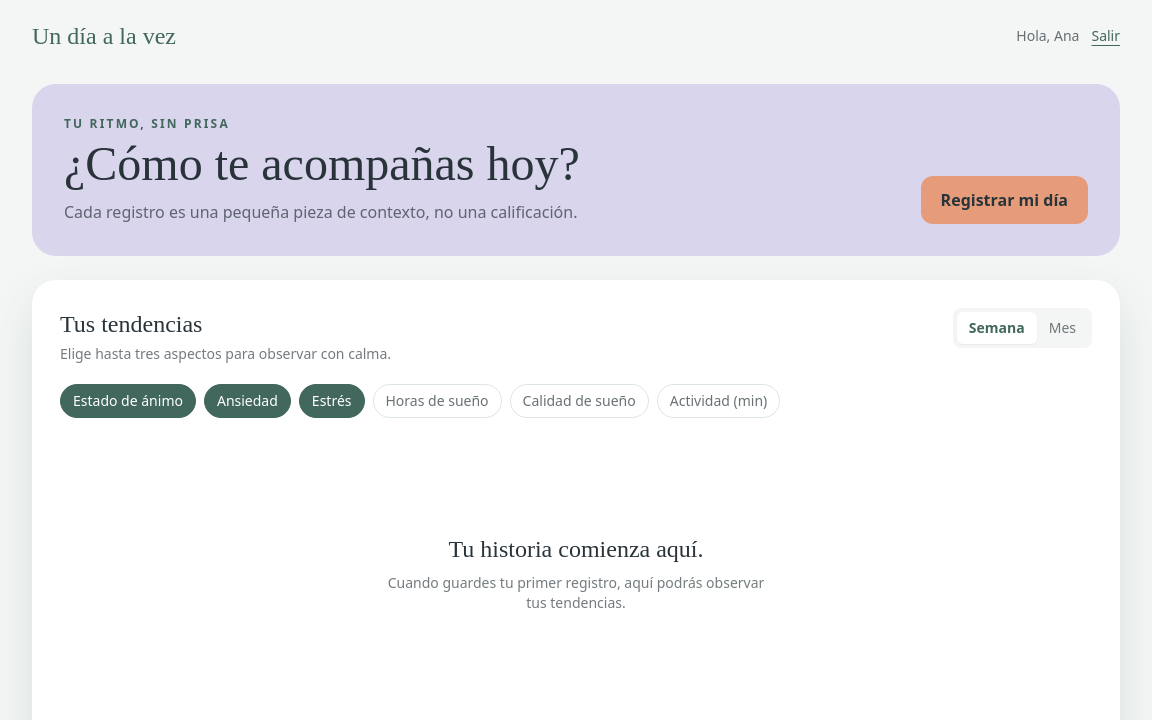
Test: DashboardPage › opens the daily log modal when "Registrar mi día" is clicked
Click the button "Registrar mi día". click: (1004,200)
box: [921, 176, 1088, 224]
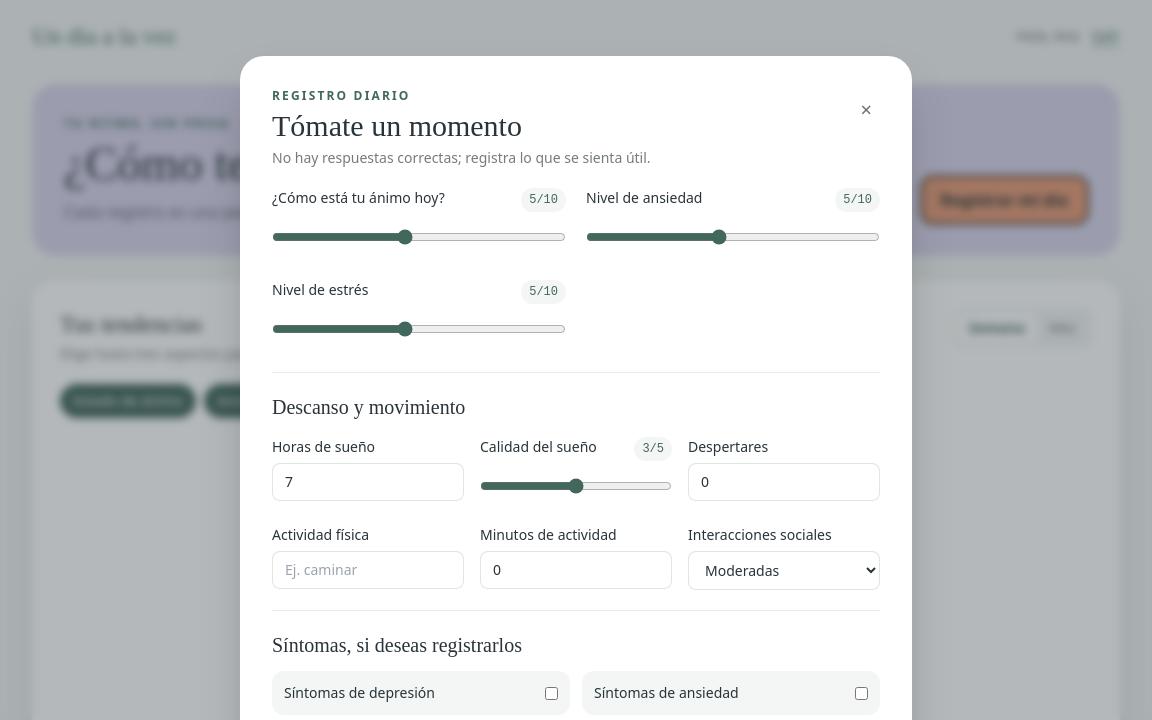
Result: the dialog named "Registrar mi día" is shown
